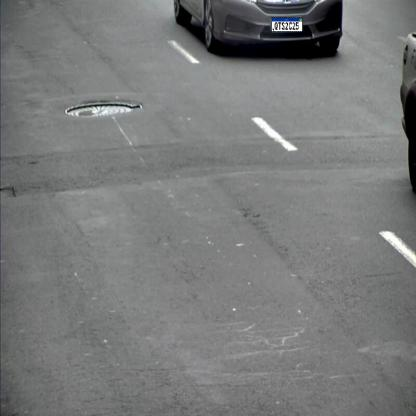PlacaM: (272, 17, 302, 32)
